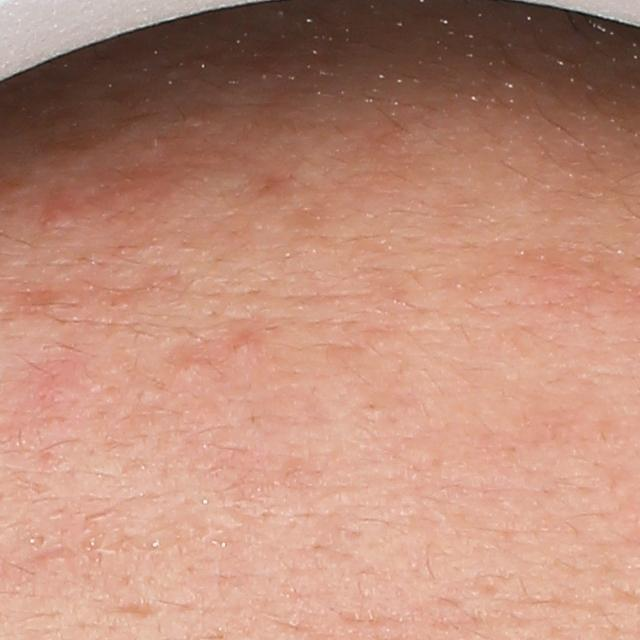papule: (40, 198, 81, 231)
